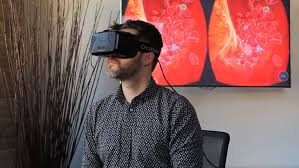oculus: (89, 28, 141, 60)
